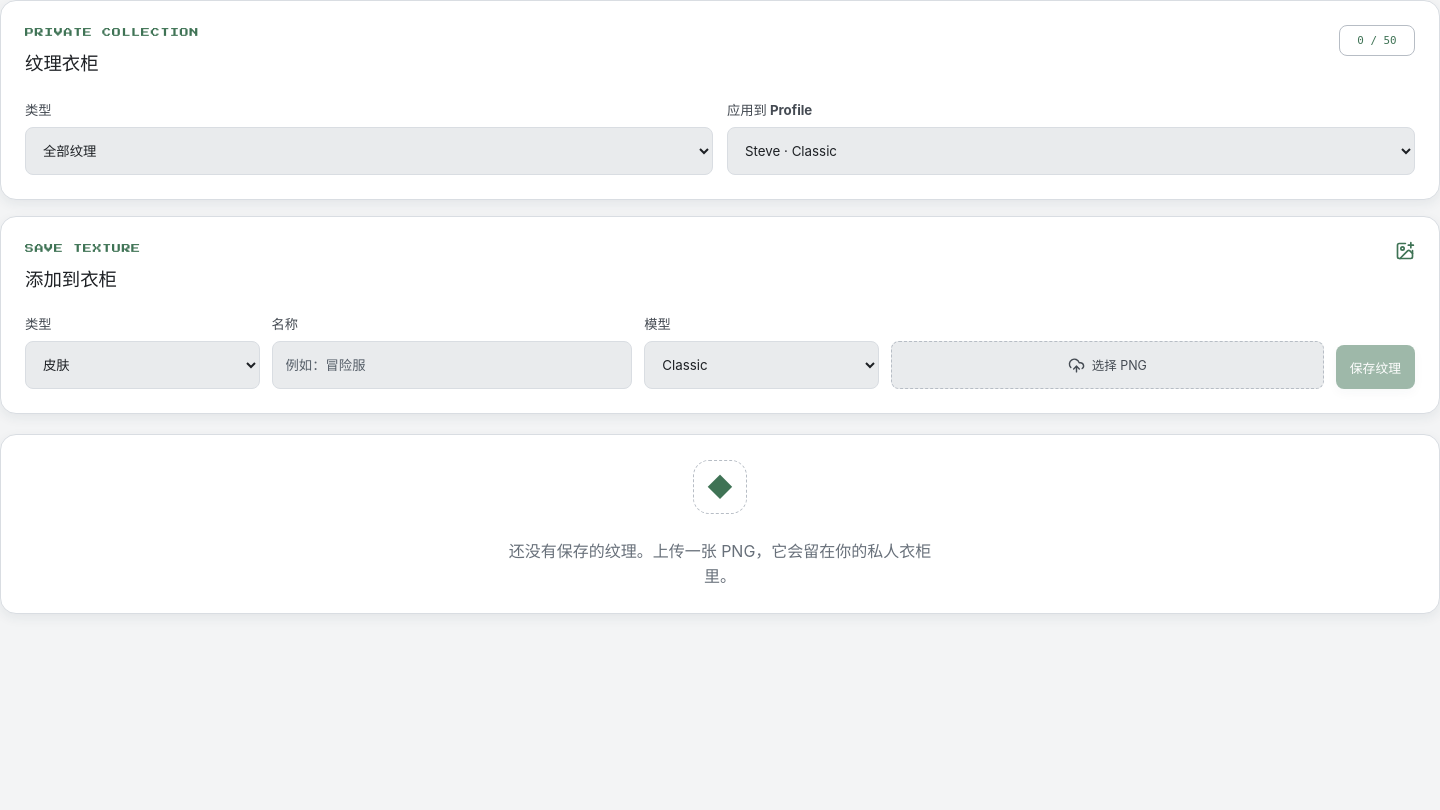
Test case: WardrobeView › shows an empty state for an empty page and an error state with retry
The width and height of the screenshot is (1440, 810).
Expected: the element showing "◆ 还没有保存的纹理。上传一张 PNG，它会留在你的私人衣柜里。" is shown, [0,434,1439,614]
Select "披风" in the dropdown named "texture-filter" at coordinates (369, 151), box [25,127,713,175]
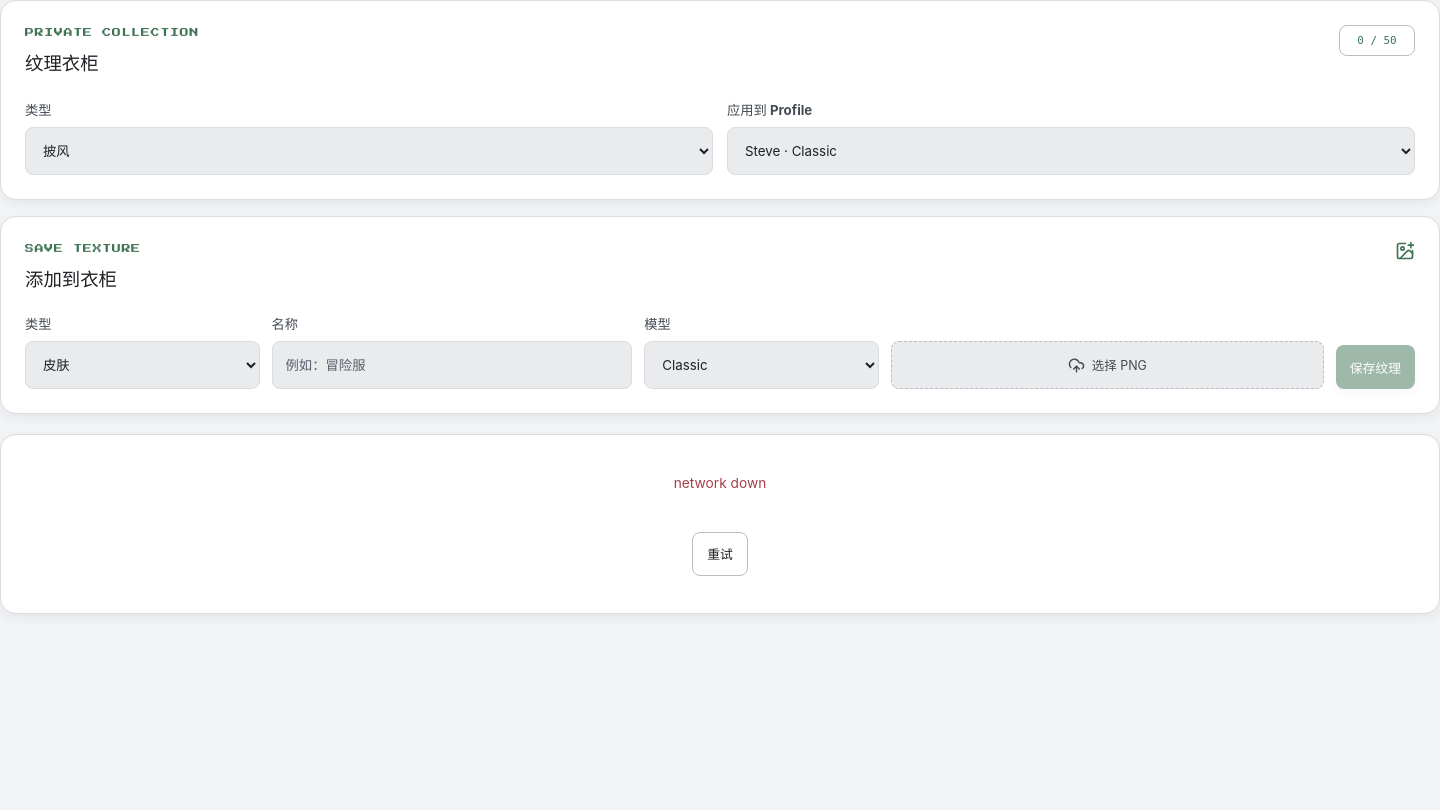
Expected: the message "network down" is shown, [674,473,766,494]
